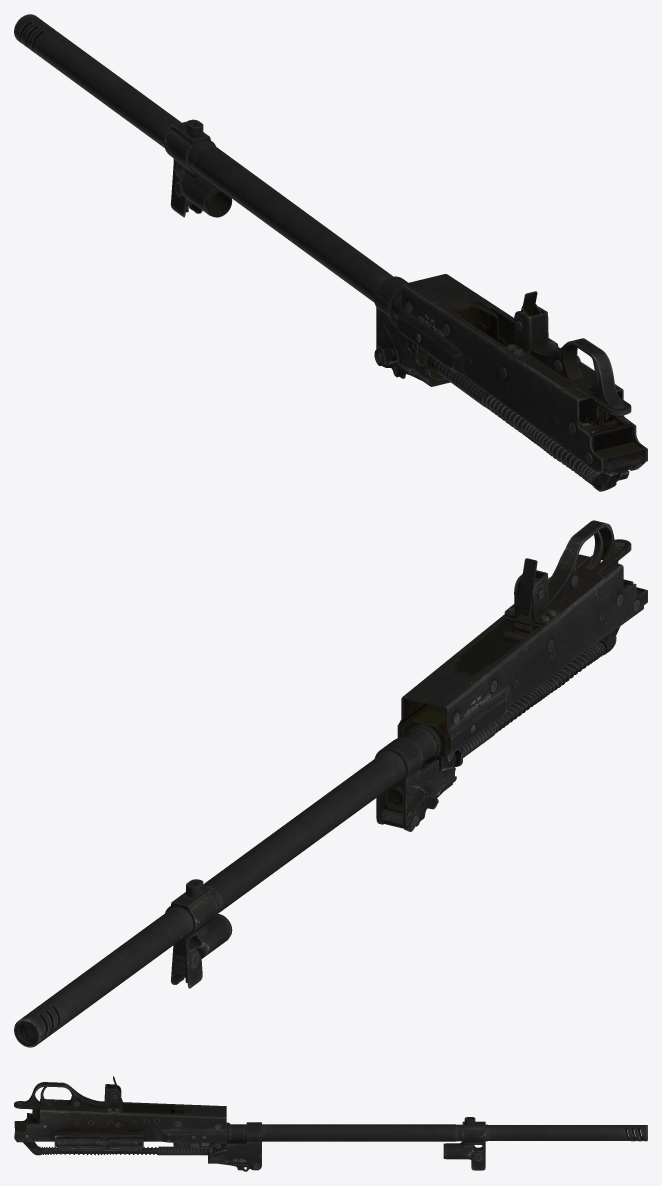
3 renders of one model, top to bottom at view 1: azimuth 30°, elevation 25°; view 2: azimuth 150°, elevation 25°; view 3: azimuth 270°, elevation 25°, orthographic. The views are drawn at different scales.
Parts seen in each view (by area): view 1: TW_5c501a4d2e221602b412b540_PZ_Import; view 2: TW_5c501a4d2e221602b412b540_PZ_Import; view 3: TW_5c501a4d2e221602b412b540_PZ_Import.
Boxes of the visible parts, x1,y1,x2,y2 form: TW_5c501a4d2e221602b412b540_PZ_Import: (14, 14, 647, 491); TW_5c501a4d2e221602b412b540_PZ_Import: (14, 520, 647, 1047); TW_5c501a4d2e221602b412b540_PZ_Import: (14, 1076, 647, 1171).
Bounding box in the file's own units: 0.0298 × 0.4454 × 0.071.
1 material, 1 textured.
